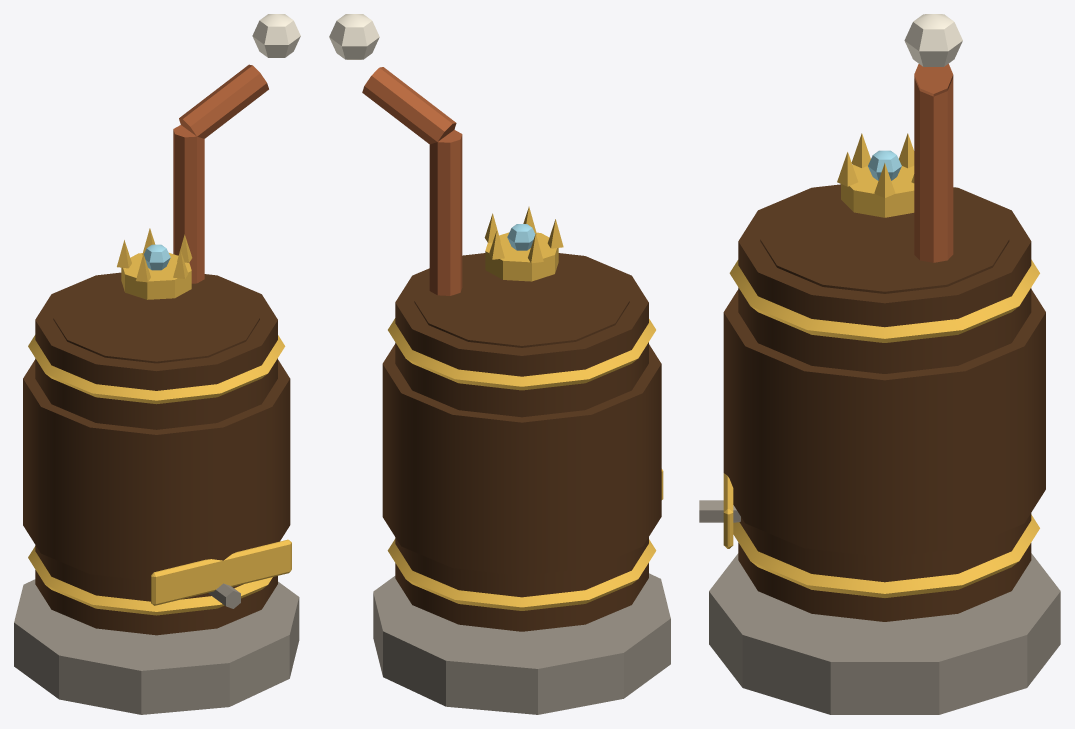
Rendered from PR_Station_KaraBira_T3.fbx.
3 views of the same model, side by side, from view 1: azimuth 30°, elevation 25°; view 2: azimuth 150°, elevation 25°; view 3: azimuth 270°, elevation 25° (orthographic). The views are drawn at different scales.
Parts seen in each view (by area): view 1: PR_Station_KaraBira_T3; view 2: PR_Station_KaraBira_T3; view 3: PR_Station_KaraBira_T3.
Boxes of the visible parts, bbox=[...] form: PR_Station_KaraBira_T3: bbox=[14, 14, 300, 714]; PR_Station_KaraBira_T3: bbox=[329, 14, 670, 714]; PR_Station_KaraBira_T3: bbox=[699, 14, 1060, 714].
Bounding box in the file's own units: 0.7943 × 1.61 × 0.74.
1 material, 1 textured.
